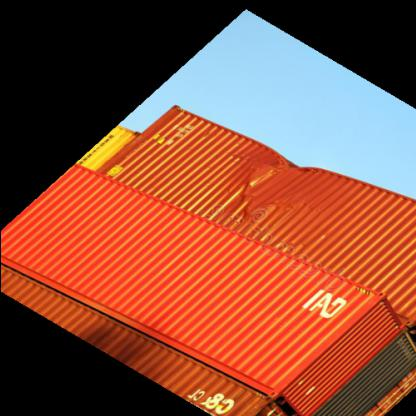Damage: (232, 158, 306, 212)
